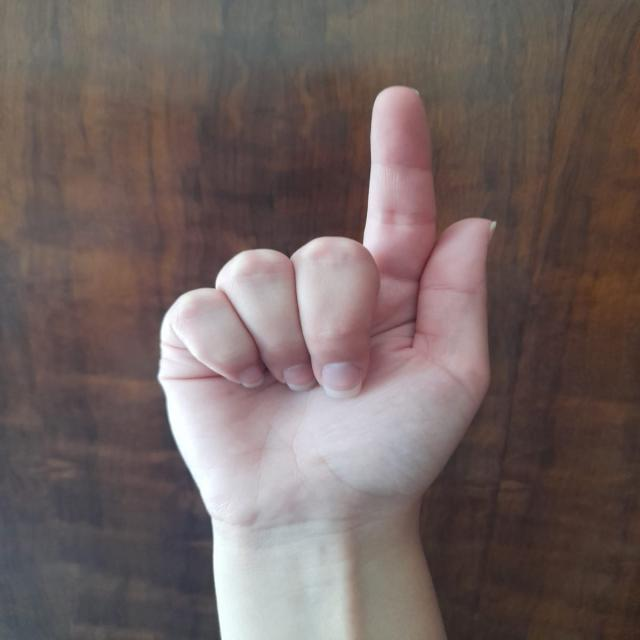G: (150, 72, 510, 526)
